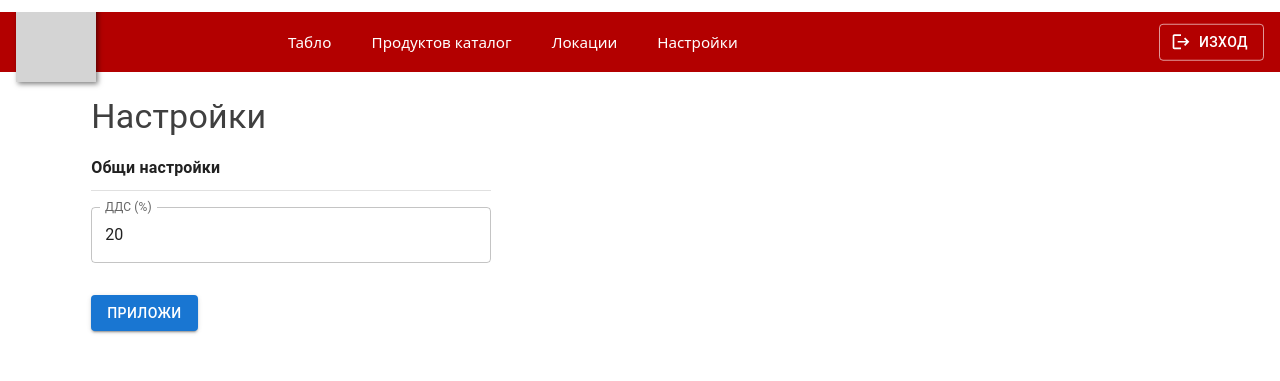
Test: Config page › rejects an incomplete number before contacting the backend
The image size is (1280, 381).
Step 1. Replace the text in the field labelled "ДДС (%)" with "." → (291, 235), box [91, 207, 491, 263]
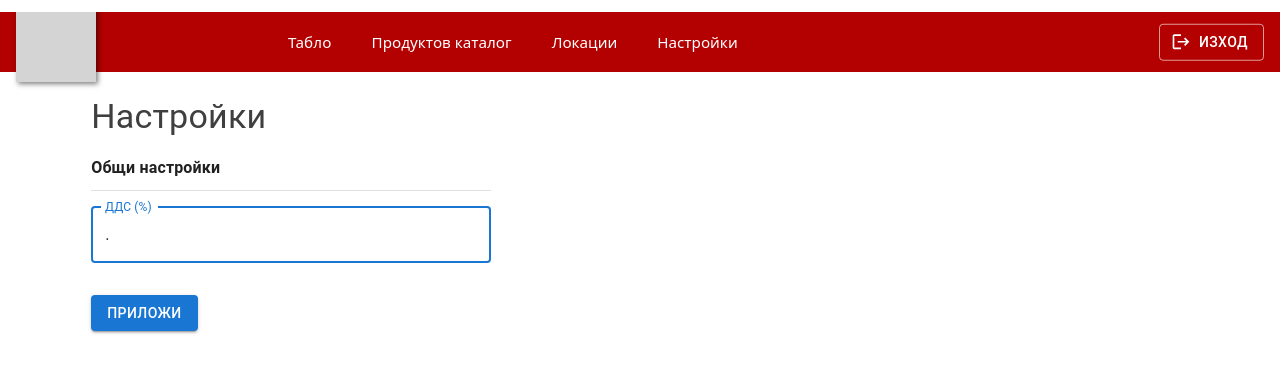
Step 2. Click the button "Приложи" → (144, 313), box [91, 295, 198, 332]
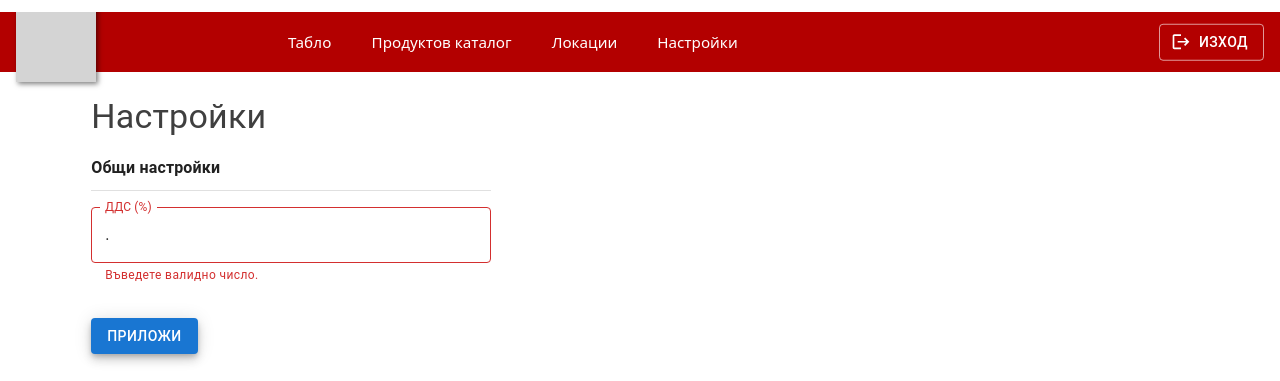
Expected: the text "Въведете валидно число." is shown, [105, 268, 259, 282]
